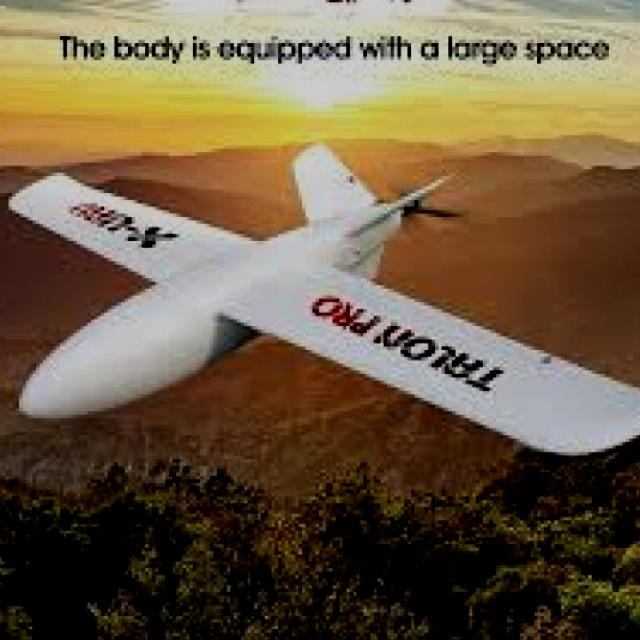plane: (5, 140, 640, 459)
